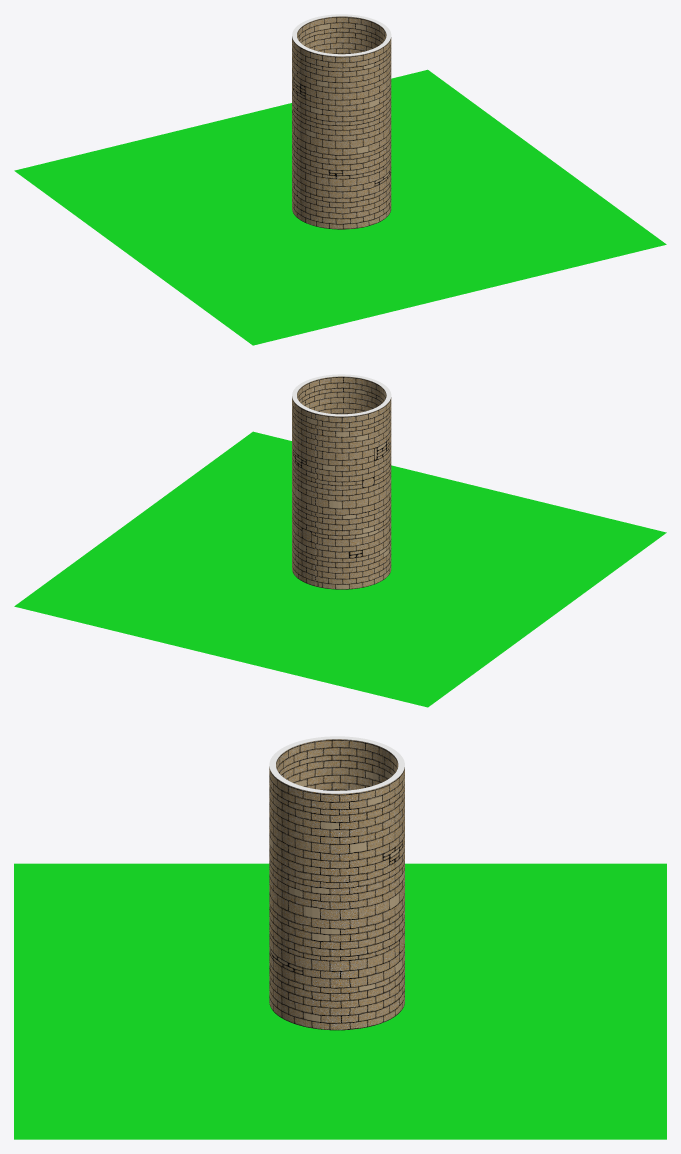
File: region-0.glb
3 renders of one model, top to bottom at view 1: azimuth 30°, elevation 25°; view 2: azimuth 150°, elevation 25°; view 3: azimuth 270°, elevation 25°, orthographic. The views are drawn at different scales.
Parts seen in each view (by area): view 1: Cube; view 2: Cube; view 3: Cube.
Boxes of the visible parts, x1,y1,x2,y2 form: Cube: [14, 14, 666, 345]; Cube: [14, 374, 666, 707]; Cube: [14, 736, 666, 1139].
Size of the model in its own units: 10 by 4 by 10.
2 materials, 1 textured.
